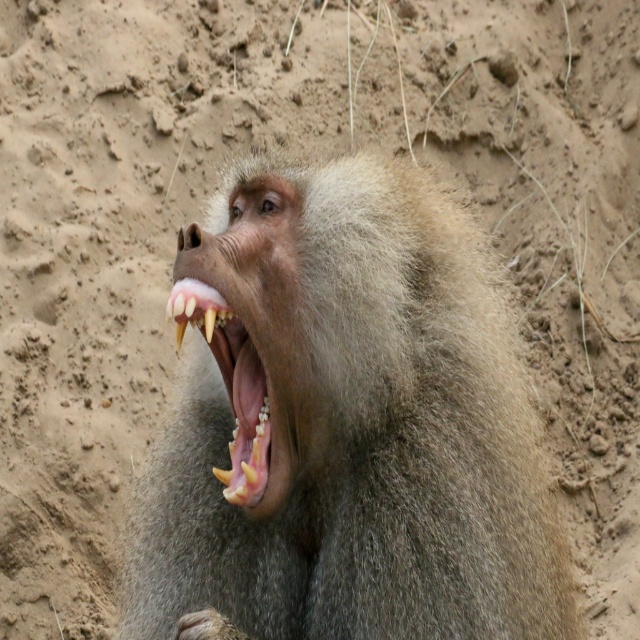Monkey: (120, 133, 586, 638)
